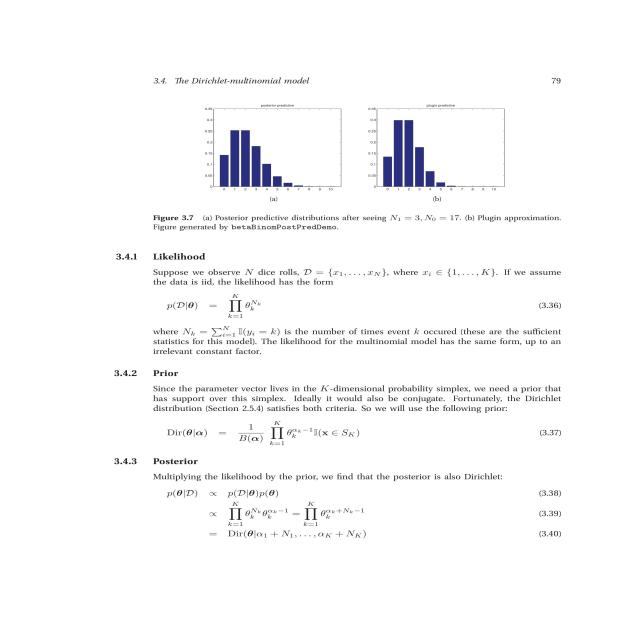diagram: (78, 84, 619, 245)
